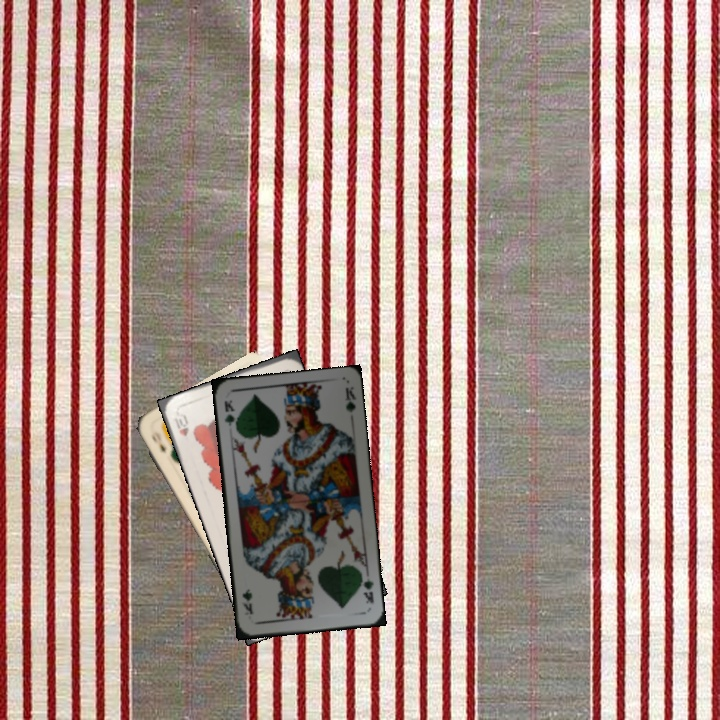EO: (147, 427, 169, 455)
GK: (220, 396, 240, 433), (357, 569, 376, 606)
H10: (170, 409, 192, 439)
